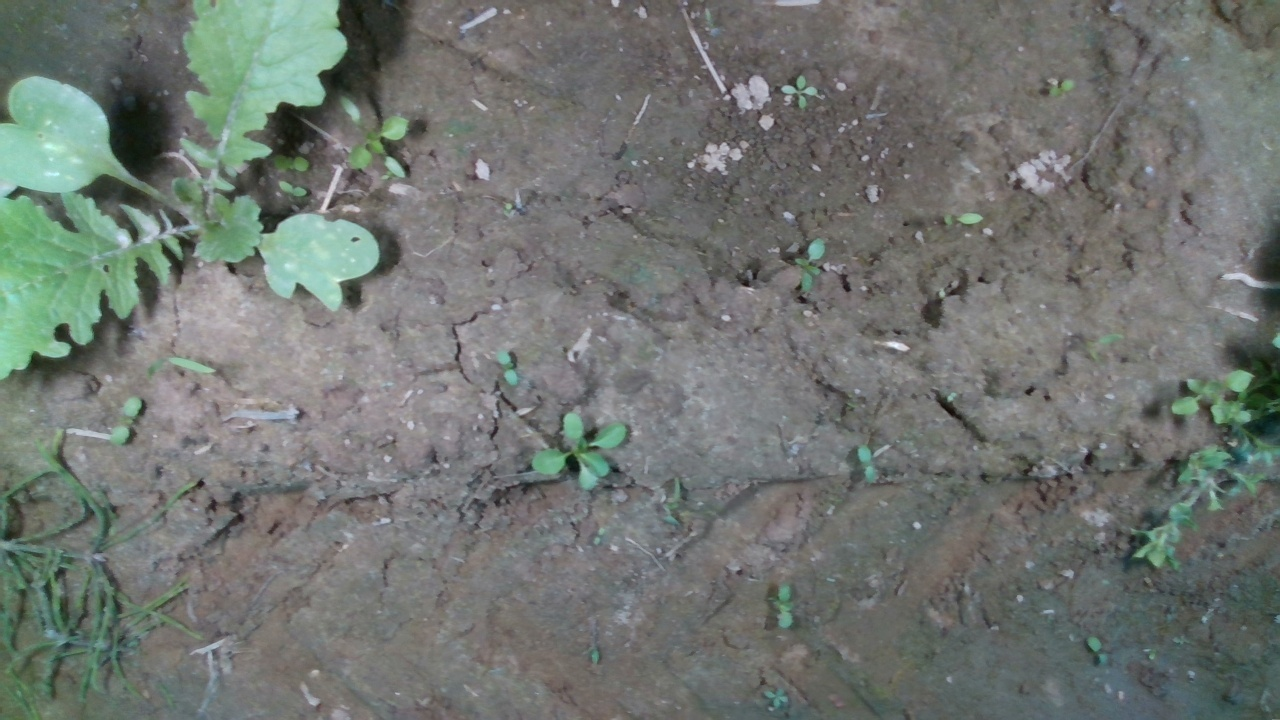weed: (793, 237, 827, 296), (107, 395, 144, 448), (778, 72, 819, 109), (494, 347, 520, 387), (775, 581, 795, 630), (857, 442, 879, 484), (1086, 634, 1109, 666), (940, 211, 985, 226), (276, 178, 309, 198), (1047, 77, 1077, 99), (763, 686, 789, 708)
